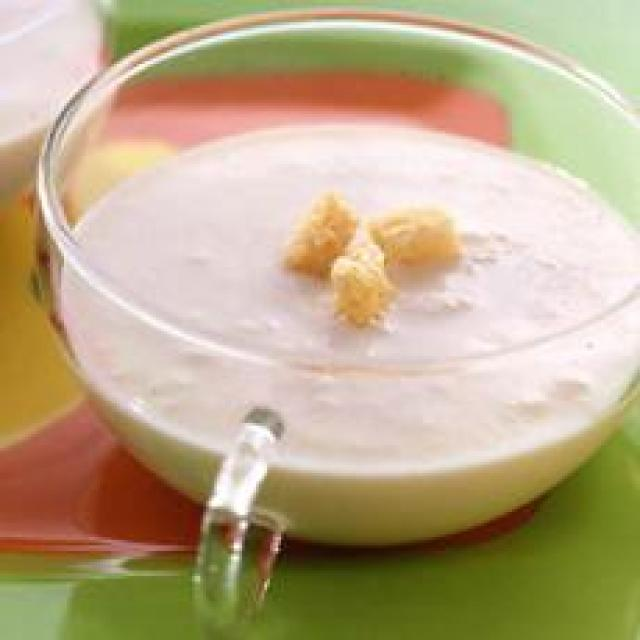汤锅炖物: (8, 0, 640, 557)
